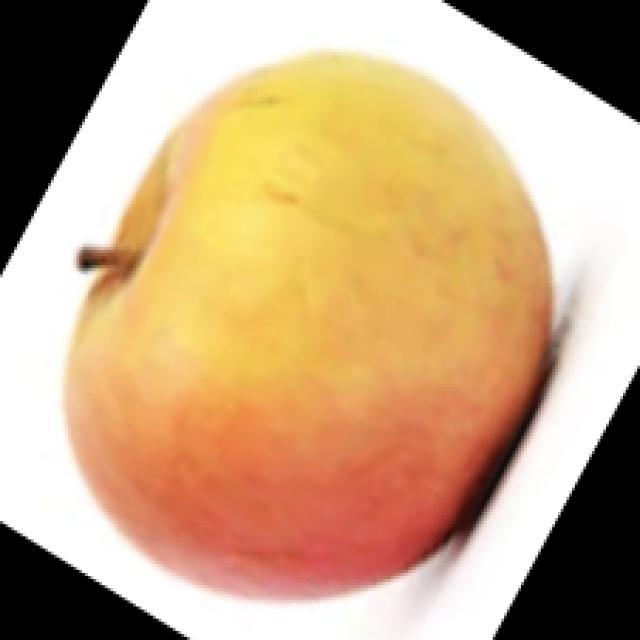Fresh Apple: (82, 58, 543, 597)
